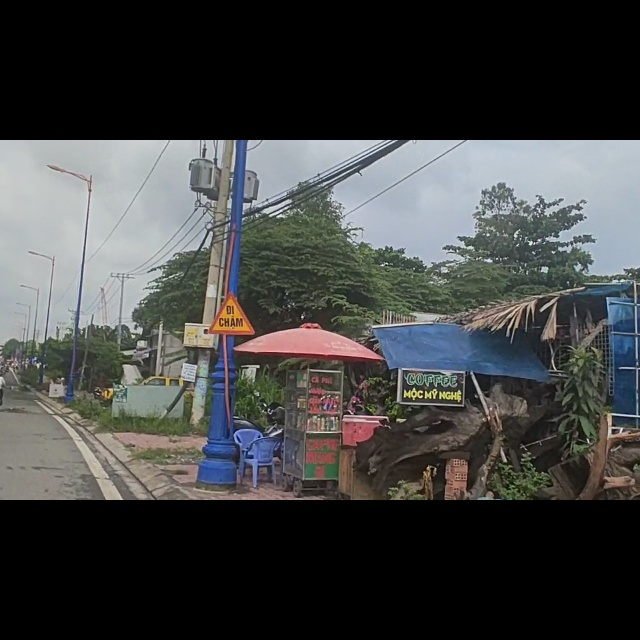bien_nguy_hiem: (207, 270, 256, 351)
